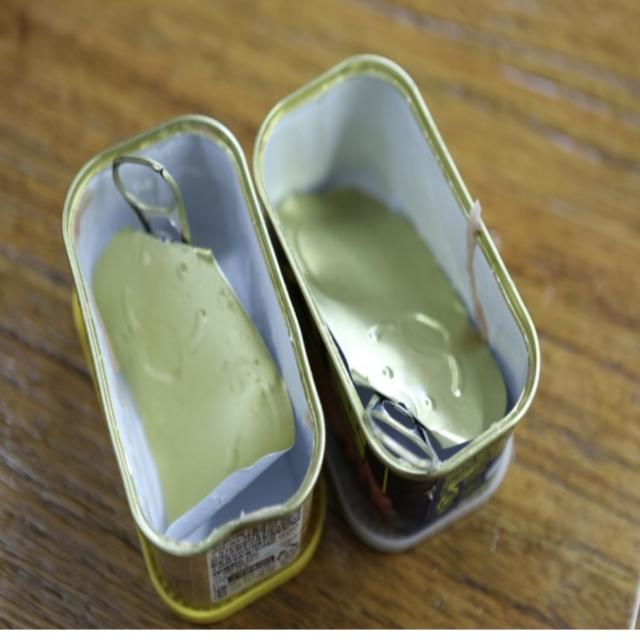recyclable: (251, 32, 549, 541), (60, 88, 331, 629)
